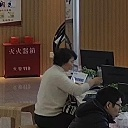head: (55, 55, 71, 71)
